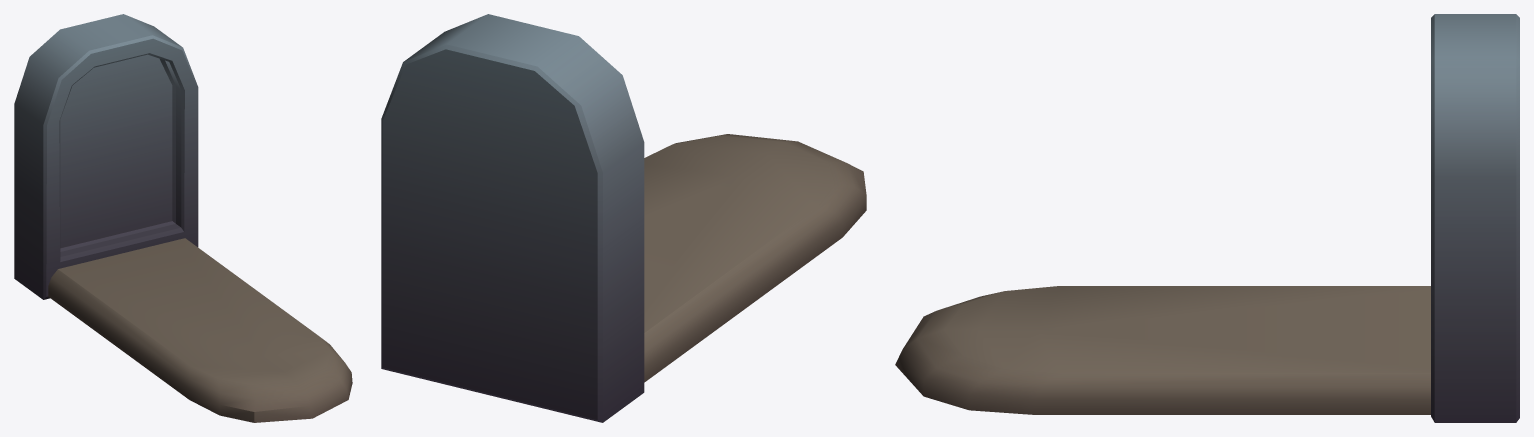
Rendered from GStone7.fbx.
The picture shows the model from 3 angles, left to right: view 1: azimuth 30°, elevation 25°; view 2: azimuth 150°, elevation 25°; view 3: azimuth 270°, elevation 25°; orthographic projection. The views are drawn at different scales.
Parts seen in each view (by area): view 1: GStone7; view 2: GStone7; view 3: GStone7.
Boxes of the visible parts, x1,y1,x2,y2 form: GStone7: (14,14,352,422); GStone7: (381,14,866,422); GStone7: (895,14,1519,422).
Size of the model in its own units: 200 by 294 by 498.
1 material, 1 textured.
